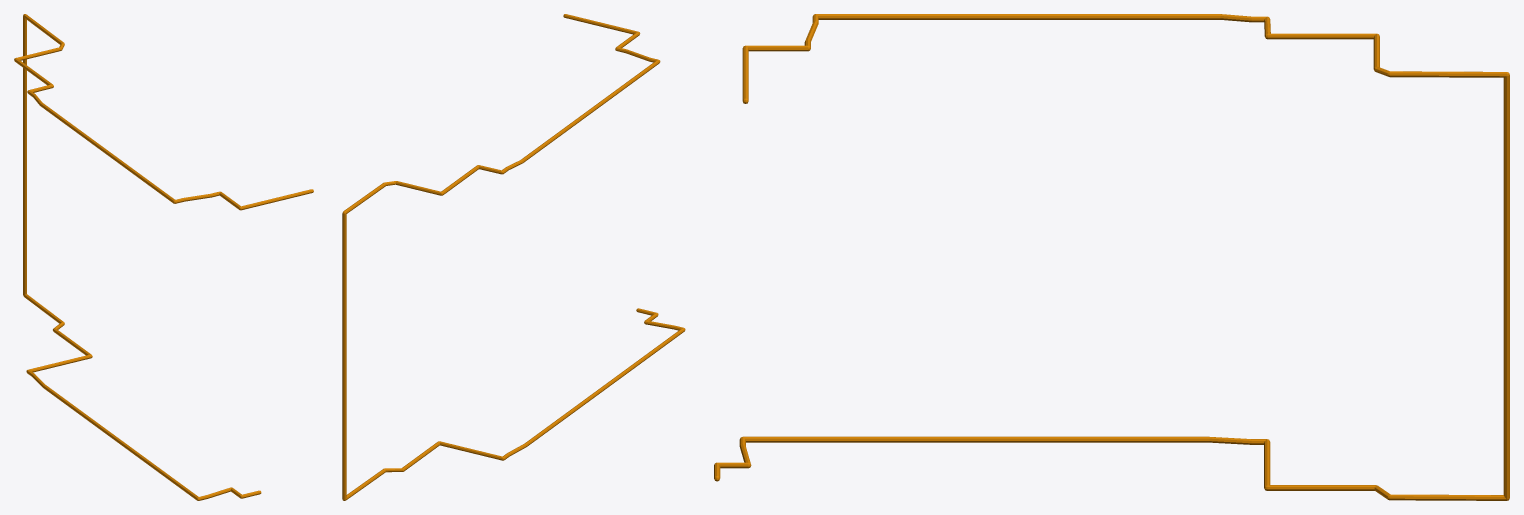
3 views of the same model, side by side, from view 1: azimuth 30°, elevation 25°; view 2: azimuth 150°, elevation 25°; view 3: azimuth 270°, elevation 25° (orthographic). The views are drawn at different scales.
Size of the model in its own units: 663 by 1520 by 2557.
